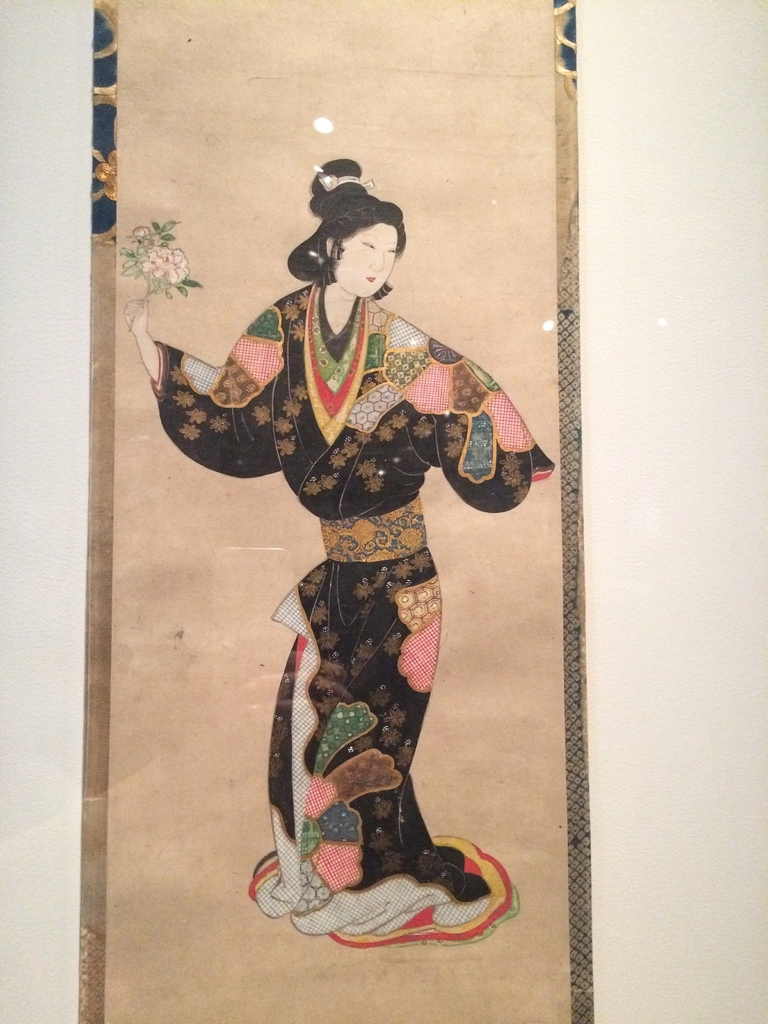face: (342, 216, 396, 296)
